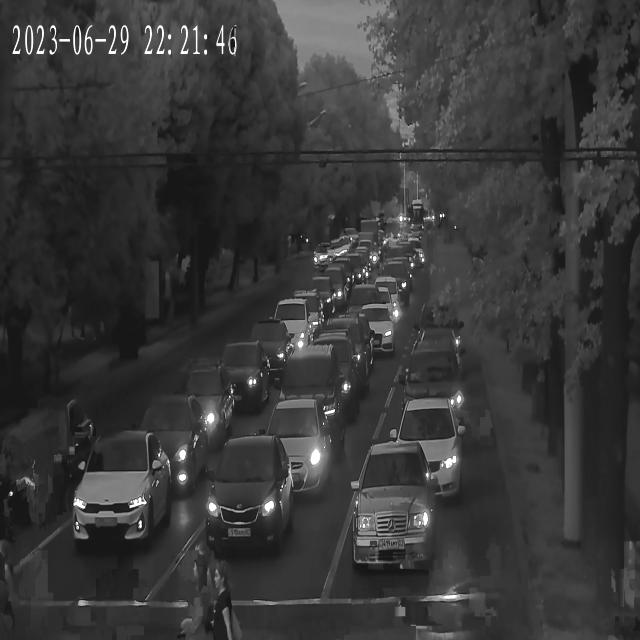Car: (69, 431, 171, 554), (348, 439, 434, 574), (195, 437, 294, 549), (378, 398, 466, 506), (240, 399, 335, 496), (126, 398, 208, 494), (270, 346, 346, 431), (168, 368, 238, 448), (0, 422, 49, 533), (398, 348, 468, 425), (202, 342, 268, 409), (58, 400, 102, 487), (298, 335, 366, 391), (312, 315, 376, 373), (242, 324, 296, 380), (342, 307, 395, 358), (266, 298, 321, 344), (351, 284, 402, 332), (312, 268, 350, 306), (373, 264, 411, 301), (298, 277, 336, 313), (386, 248, 419, 278), (337, 256, 369, 282), (352, 242, 378, 264), (312, 247, 330, 267)
